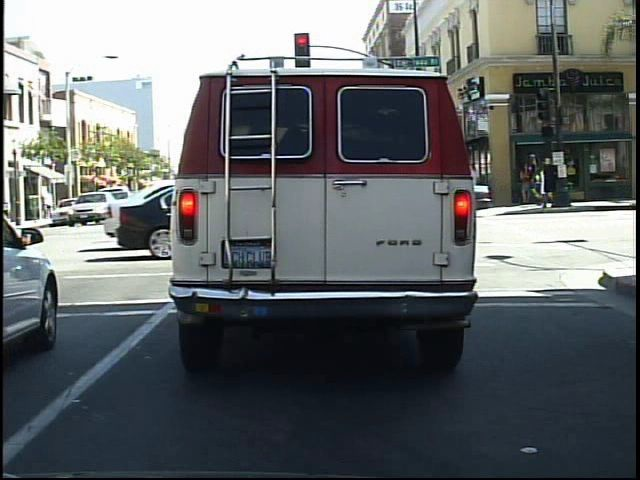person: (538, 154, 563, 213), (516, 157, 540, 210), (525, 150, 545, 209), (545, 159, 546, 209)
